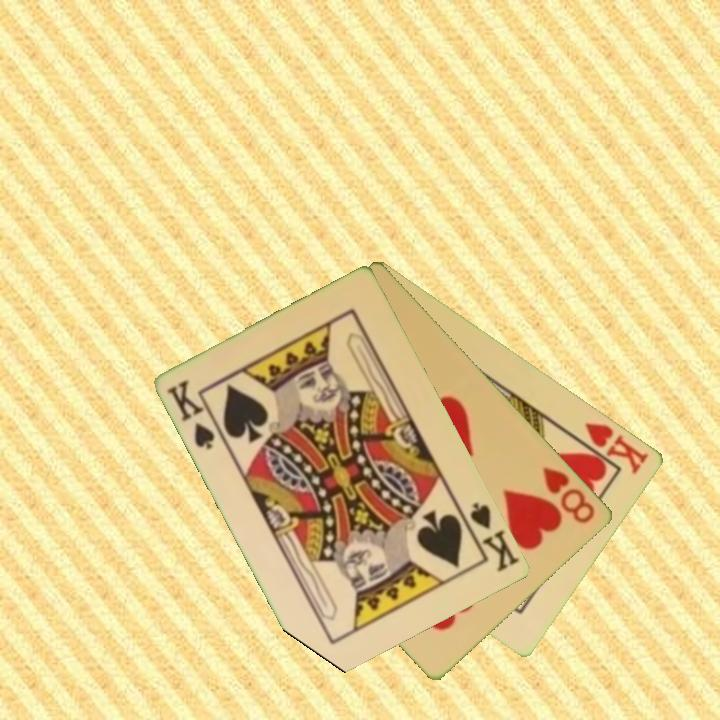8h: (539, 463, 598, 527)
Kh: (570, 418, 652, 477)
Ks: (456, 498, 523, 575), (164, 376, 219, 453)
